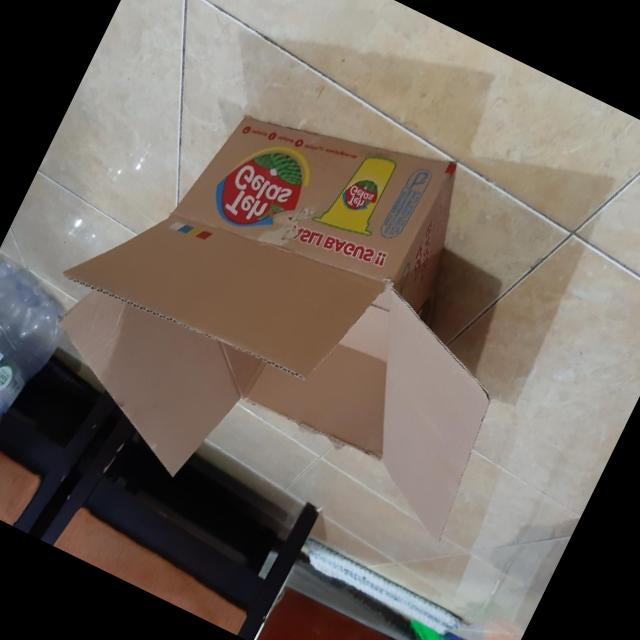Kardus: (2, 27, 592, 596)
